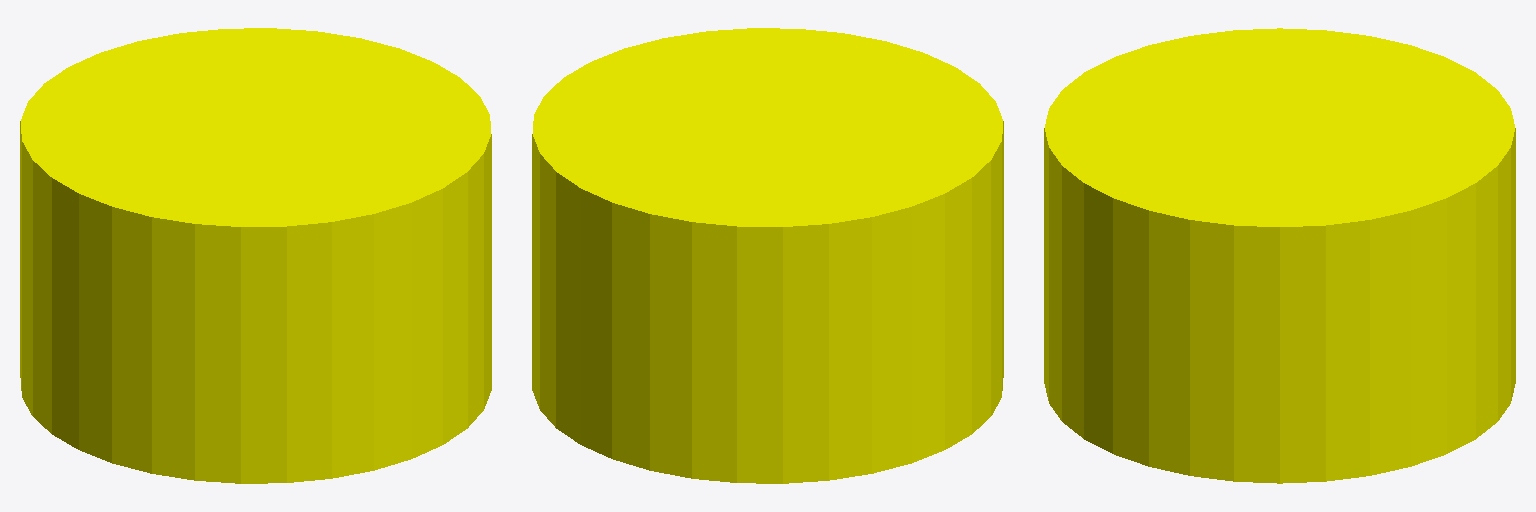
URDF robot description (twoarm_neck):
<?xml version="1.0" ?>
<robot name="twoarm_neck">
  <joint name="joint1" type="continuous">
    <parent link="base_link"/>
    <child link="link1"/>
    <origin rpy="0.0 0.0 0.0" xyz="0.0 0.0 0.059"/>
    <axis xyz="0 0 1"/>
  </joint>
  <joint name="joint2" type="continuous">
    <parent link="link1"/>
    <child link="link2"/>
    <origin rpy="0.0 1.570796 0.0" xyz="0.0 0.0 0.0459"/>
    <axis xyz="0 1 0"/>
  </joint>
  <joint name="joint3" type="fixed">
    <parent link="link2"/>
    <child link="camera_link"/>
    <origin rpy="0.0 0.0 0.0" xyz="0.07175 0.04635 0.02990"/>
  </joint>
  <link name="base_link">
    <visual>
      <geometry>
       <cylinder length=".06" radius="0.05"></cylinder>
      </geometry>
      <material name="yellow">
          <color rgba="1 1 0 1"/>
      </material>  
    </visual>
    <inertial>
      <mass value="4.0"/>
      <origin rpy="0 0 0" xyz="0.0 0.0 0.0"/>
      <inertia ixx="0.00443333156" ixy="0.0" ixz="0.0" iyy="0.00443333156" iyz="0.0" izz="0.0072"/>
    </inertial>
  </link>  
  <link name="link1">
    <inertial>
      <mass value="4.0"/>
      <origin rpy="0 0 0" xyz="0.0 0.0 0.0"/>
      <inertia ixx="0.00443333156" ixy="0.0" ixz="0.0" iyy="0.00443333156" iyz="0.0" izz="0.0072"/>
    </inertial>
  </link>  
  <link name="link2">
    <inertial>
      <mass value="4.0"/>
      <origin rpy="0 0 0" xyz="0.0 0.0 0.0"/>
      <inertia ixx="0.00443333156" ixy="0.0" ixz="0.0" iyy="0.00443333156" iyz="0.0" izz="0.0072"/>
    </inertial>
  </link>
  <link name="camera_link">
  </link>
</robot>

--- What the picture shows (computed from the rendered views, not written in the file) ---
Views: 3 orthographic renders of the robot side by side, from view 1: azimuth 30°, elevation 25°; view 2: azimuth 150°, elevation 25°; view 3: azimuth 270°, elevation 25°.
Model twoarm_neck with 4 links and 3 joints (2 continuous, 1 fixed), rooted at base_link, posed all joints at 0.
Visible links, largest first — view 1: base_link; view 2: base_link; view 3: base_link.
Boxes of the visible links, x1,y1,x2,y2 form: base_link: (20, 28, 491, 483); base_link: (532, 28, 1003, 483); base_link: (1044, 28, 1515, 483).
Size in the robot's own frame: 0.1 by 0.1 by 0.06 metres.
Geometry: primitives only (box / cylinder / sphere), no mesh files.